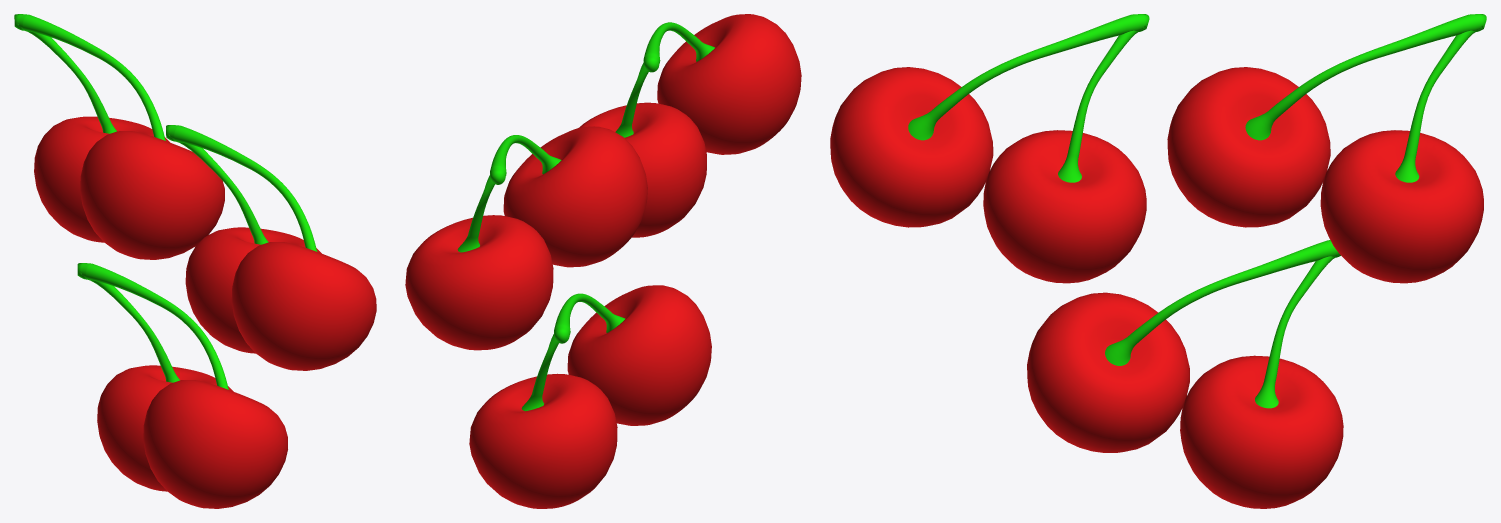
The model's file is 6CHERRIES.glb.
3 views of the same model, side by side, from view 1: azimuth 30°, elevation 25°; view 2: azimuth 150°, elevation 25°; view 3: azimuth 270°, elevation 25° (orthographic). The views are drawn at different scales.
Parts seen in each view (by area): view 1: cherry.002, cherry, cherry.001; view 2: cherry.001, cherry.002, cherry; view 3: cherry, cherry.001, cherry.002.
Part boxes in pixels (x1,y1,x2,y2): cherry.002: (77, 263, 287, 508); cherry: (166, 125, 376, 370); cherry.001: (14, 14, 224, 259); cherry.001: (405, 126, 647, 350); cherry.002: (469, 285, 711, 508); cherry: (579, 14, 801, 237); cherry: (830, 14, 1149, 283); cherry.001: (1167, 14, 1486, 283); cherry.002: (1027, 240, 1343, 508).
Size of the model in its own units: 5.75 by 15.14 by 19.62.
